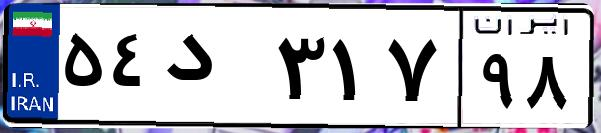1: (330, 28, 385, 110)
3: (270, 28, 330, 110)
4: (110, 28, 158, 98)
5: (57, 26, 110, 100)
7: (385, 28, 445, 110)
8: (525, 38, 570, 115)
9: (475, 38, 525, 113)
د: (158, 20, 270, 120)
